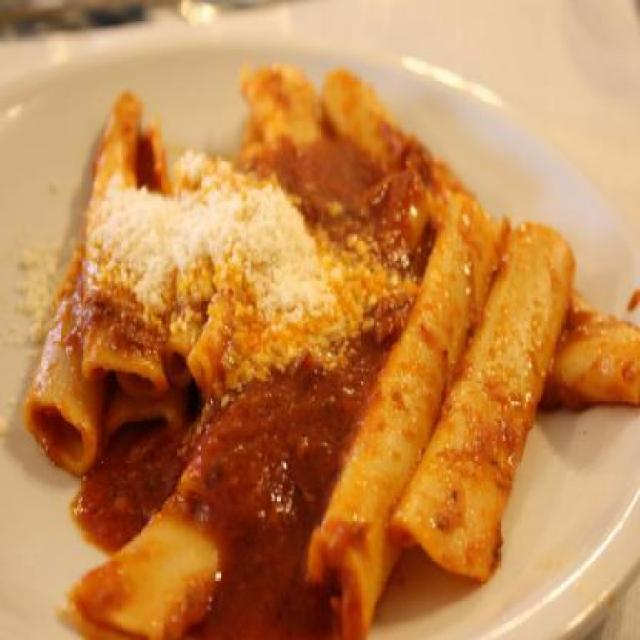Pasta al ragu: (34, 73, 596, 612)
